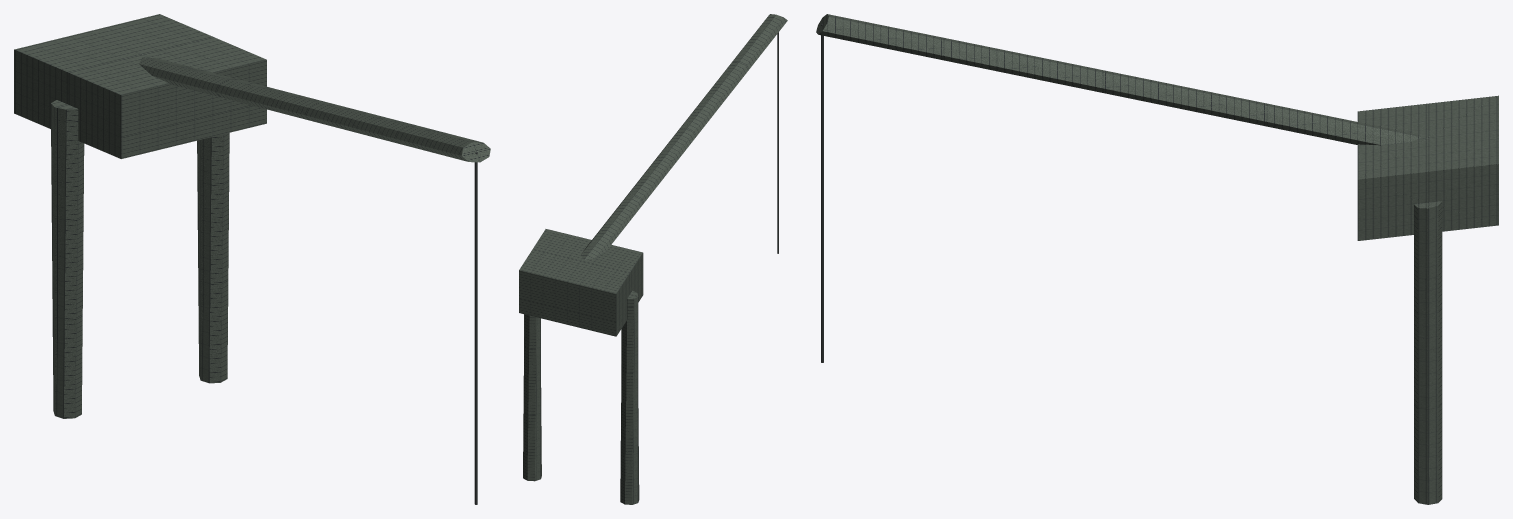
File: damaged2.gltf
3 views of the same model, side by side, from view 1: azimuth 30°, elevation 25°; view 2: azimuth 150°, elevation 25°; view 3: azimuth 270°, elevation 25° (orthographic). The views are drawn at different scales.
Visible parts, largest first — view 1: britaincrane_damaged2; view 2: britaincrane_damaged2; view 3: britaincrane_damaged2.
Part boxes in pixels (bbox=[...]): britaincrane_damaged2: bbox=[14, 14, 490, 504]; britaincrane_damaged2: bbox=[519, 14, 787, 504]; britaincrane_damaged2: bbox=[816, 14, 1498, 504].
Size of the model in its own units: 9.84 by 25.01 by 33.82.
3 materials, 2 textured.
